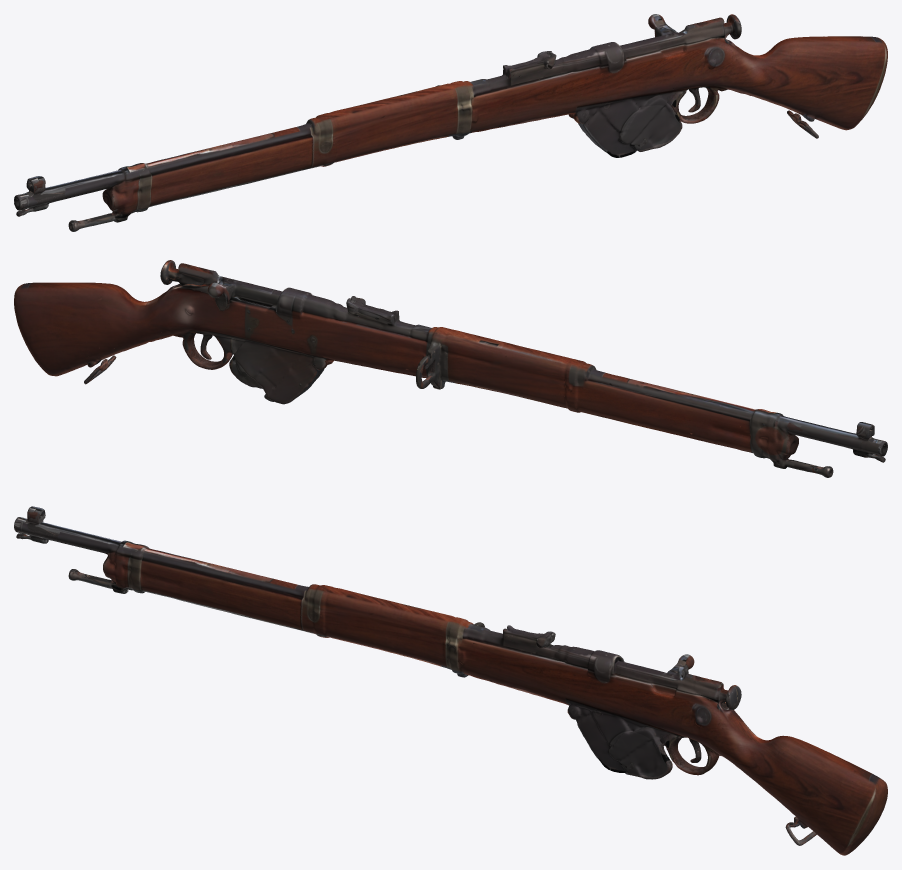
The model's file is Fusil_Automatique_mod_1030145022_texture.fbx.
The picture shows the model from 3 angles, top to bottom: view 1: azimuth 30°, elevation 25°; view 2: azimuth 150°, elevation 25°; view 3: azimuth 330°, elevation 25°; orthographic projection.
Visible parts, largest first — view 1: Mesh_0.003; view 2: Mesh_0.003; view 3: Mesh_0.003.
Boxes of the visible parts, x1,y1,x2,y2 form: Mesh_0.003: (14,14,887,231); Mesh_0.003: (14,260,887,477); Mesh_0.003: (14,506,887,855).
Bounding box in the file's own units: 190 × 31.16 × 13.72.
1 material, 1 textured.
